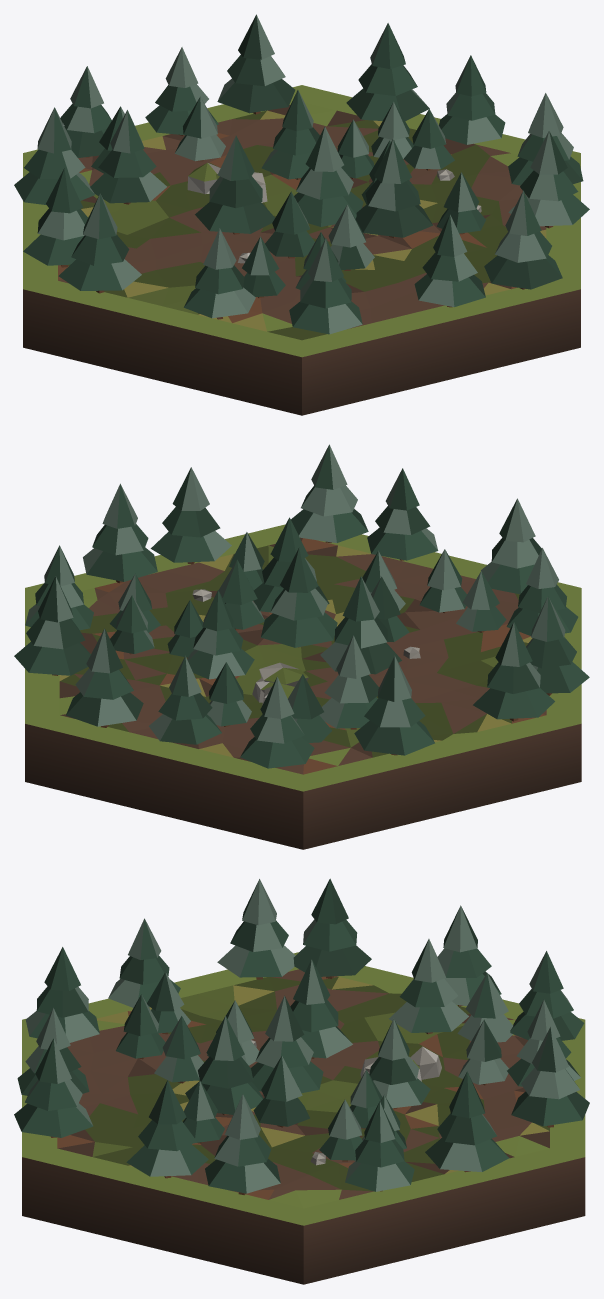
The model's file is SM_Tile_PineForest_B.fbx.
3 views of the same model, one above another, from view 1: azimuth 30°, elevation 25°; view 2: azimuth 150°, elevation 25°; view 3: azimuth 270°, elevation 25° (orthographic).
Visible parts, largest first — view 1: SM_Tile_PineForest_B; view 2: SM_Tile_PineForest_B; view 3: SM_Tile_PineForest_B.
Part boxes in pixels (left/top/right/bottom): SM_Tile_PineForest_B: left=14, top=14, right=589, bottom=415; SM_Tile_PineForest_B: left=14, top=444, right=589, bottom=849; SM_Tile_PineForest_B: left=14, top=878, right=589, bottom=1284.
Bounding box in the file's own units: 20 × 5.38 × 17.72.
